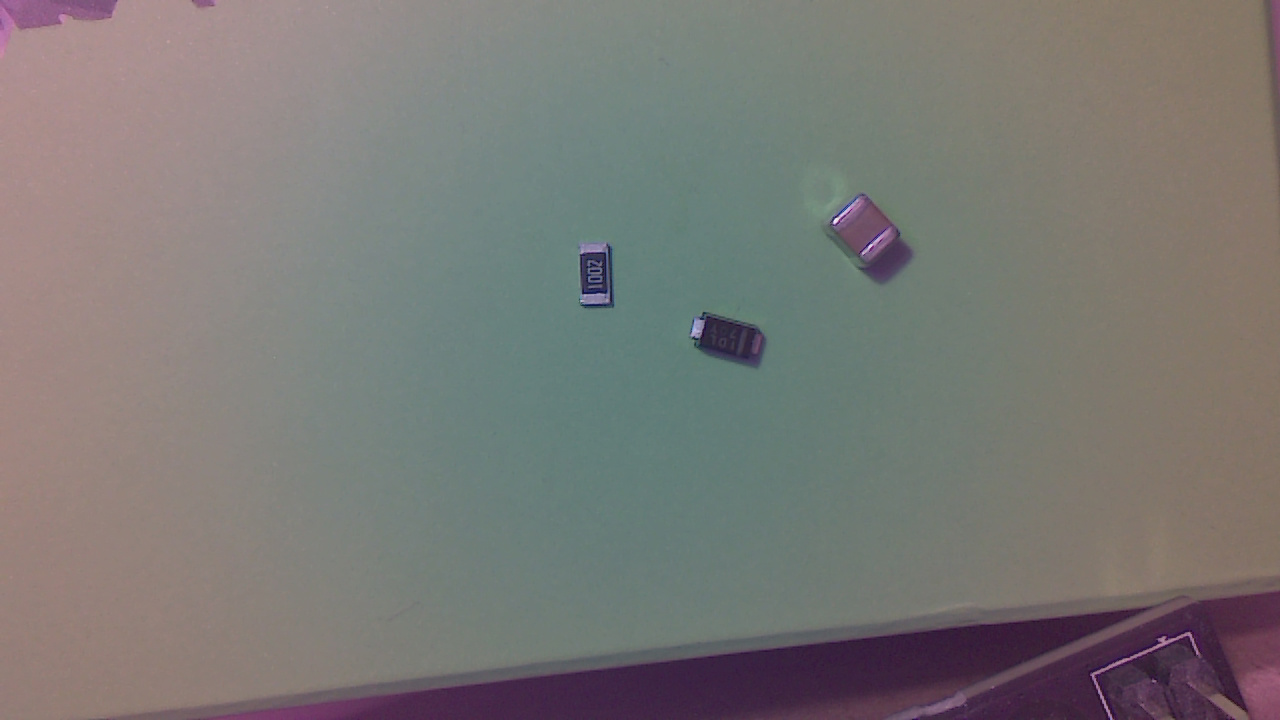Condensator: (829, 200, 907, 277)
Diode: (695, 315, 773, 370)
Resistor: (581, 247, 620, 315)
